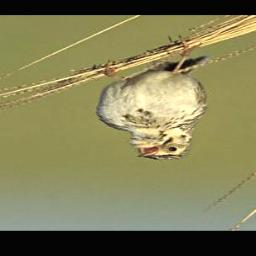Sparrow: (91, 35, 208, 162)
